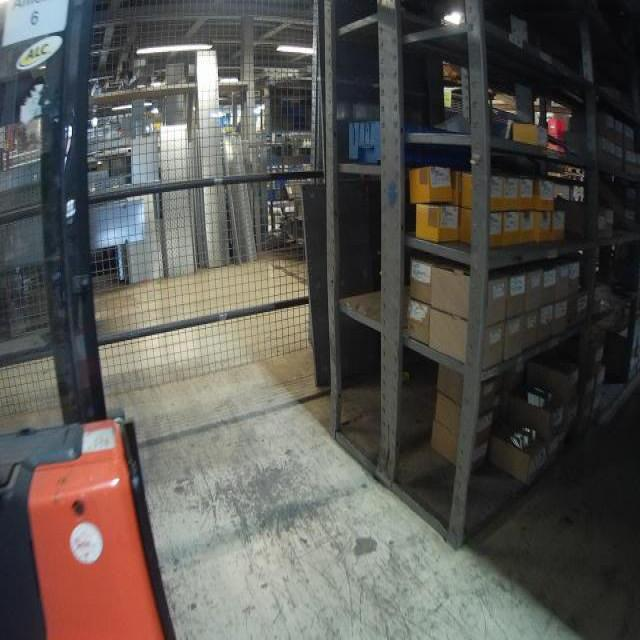pallet_truck: (4, 3, 187, 638)
small_load_carrier: (348, 120, 380, 165)
